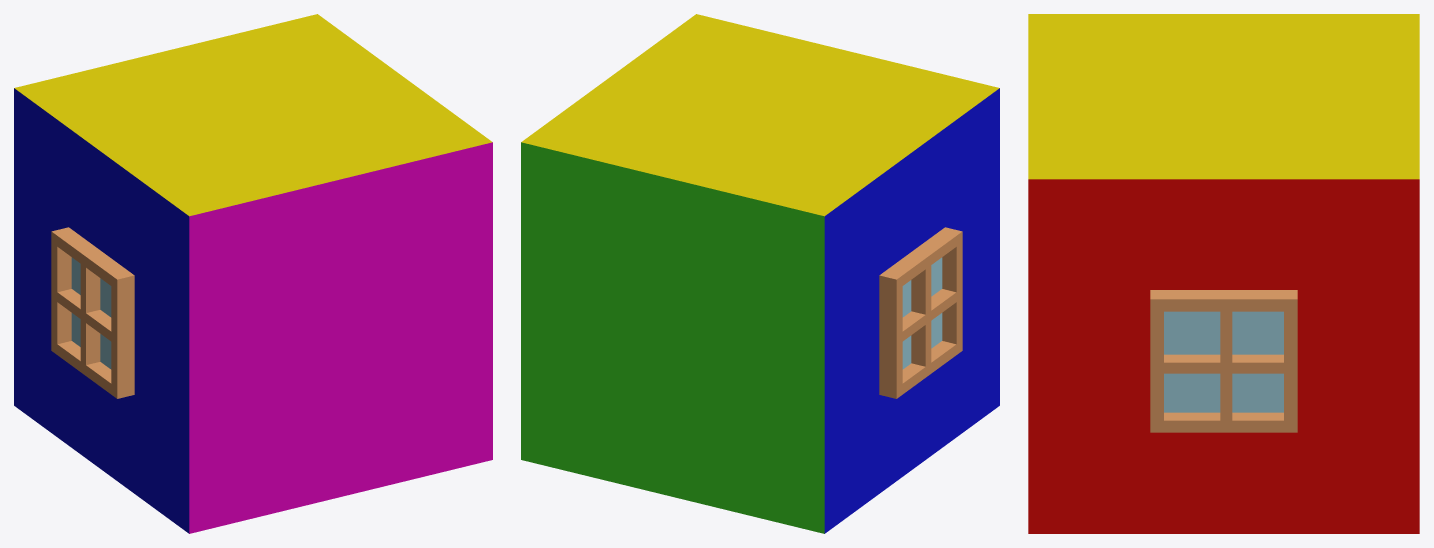
Rendered from house_small.1.glb.
3 renders of one model, left to right at view 1: azimuth 30°, elevation 25°; view 2: azimuth 150°, elevation 25°; view 3: azimuth 270°, elevation 25°, orthographic. The views are drawn at different scales.
Visible parts, largest first — view 1: Cube, Cube.001; view 2: Cube, Cube.001; view 3: Cube, Cube.001.
Part boxes in pixels (bbox=[...]): Cube: bbox=[14, 14, 492, 533]; Cube.001: bbox=[51, 227, 134, 398]; Cube: bbox=[521, 14, 999, 533]; Cube.001: bbox=[879, 227, 962, 398]; Cube: bbox=[1028, 14, 1419, 533]; Cube.001: bbox=[1150, 290, 1297, 432].
Size of the model in its own units: 2.23 by 2 by 2.
